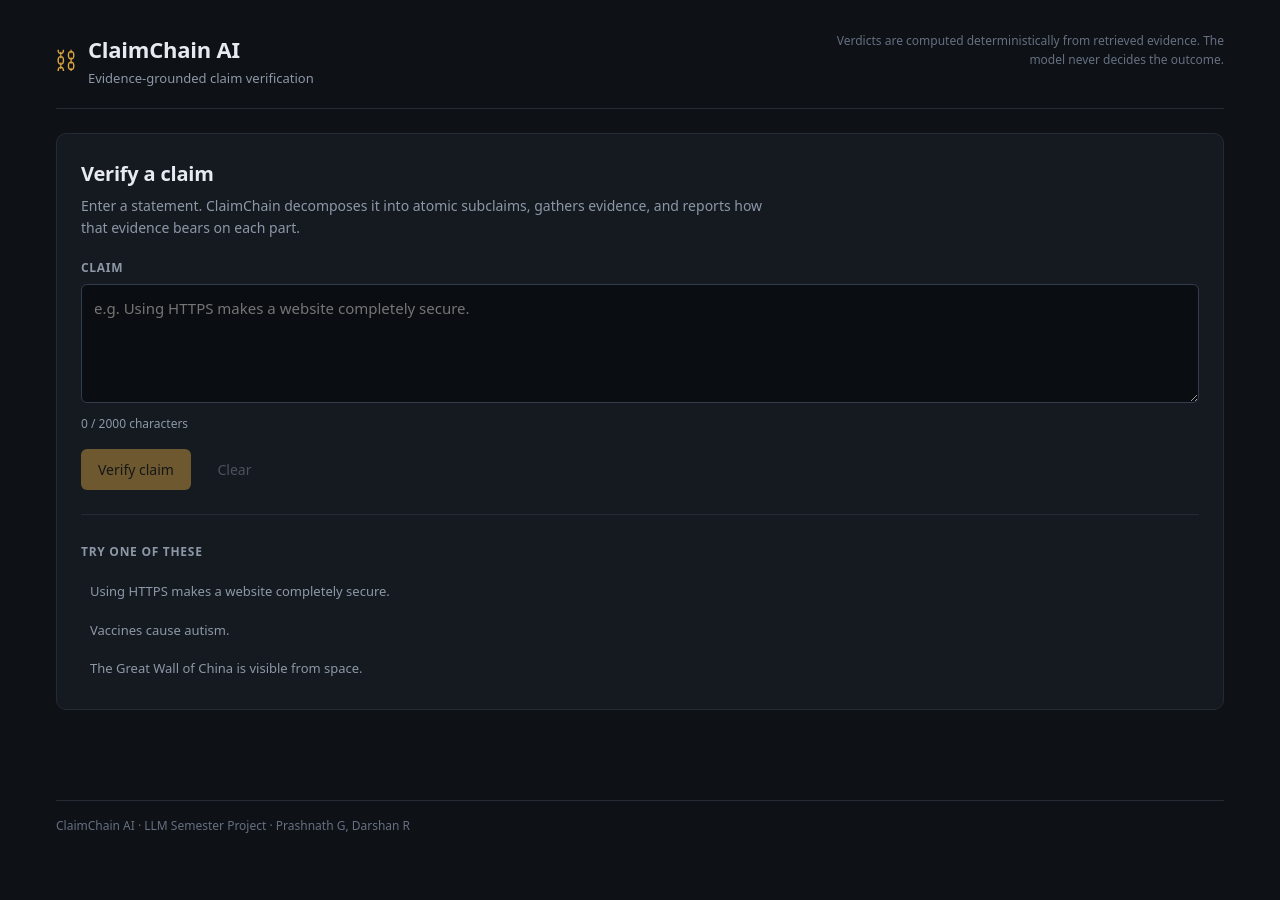
Test: App › shows a loading state while the pipeline runs
The image size is (1280, 900).
In the text box: (640, 343) [81,284,1199,403], type "Using HTTPS makes a website completely secure."
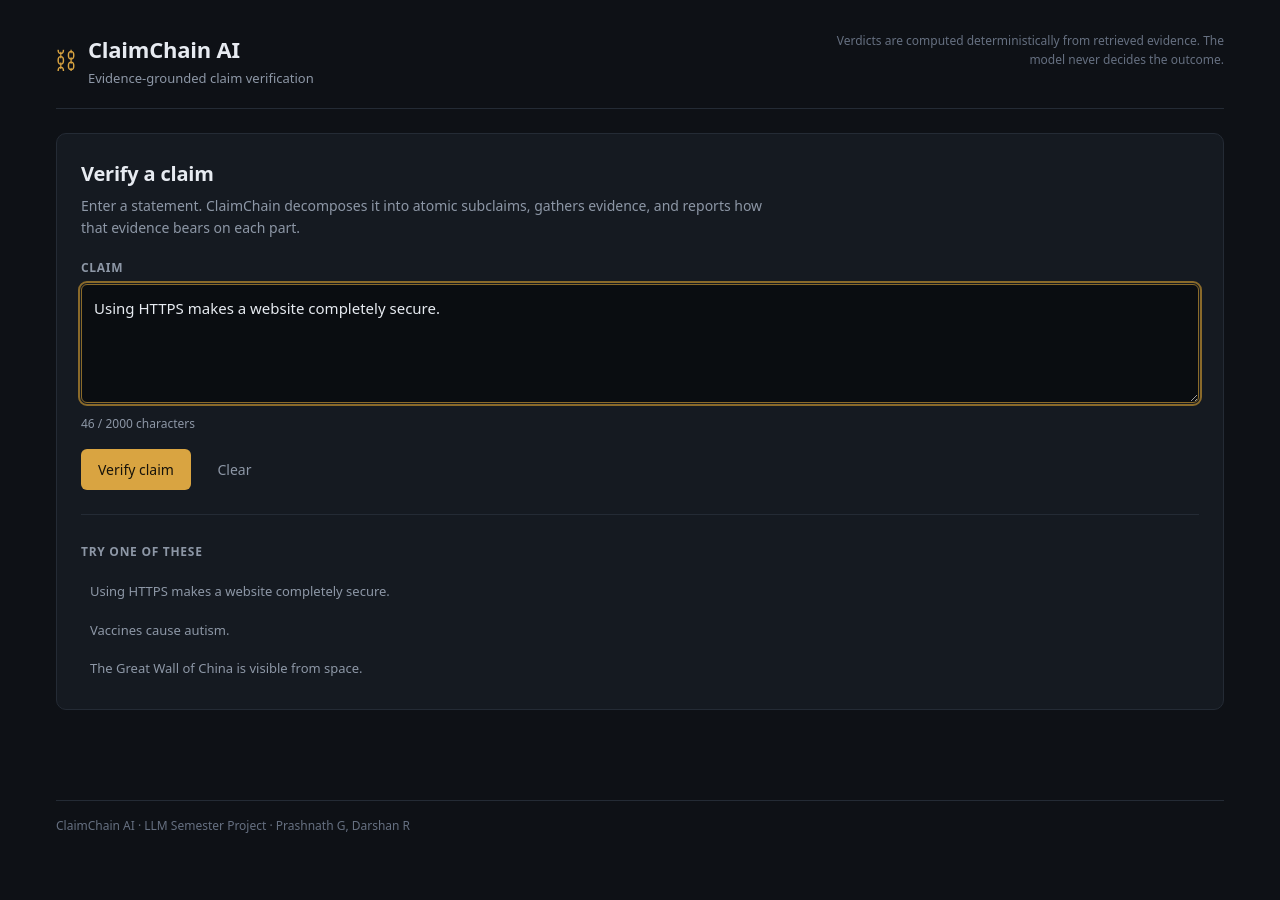
Click the button "Verify claim": (136, 470) [81,449,191,490]
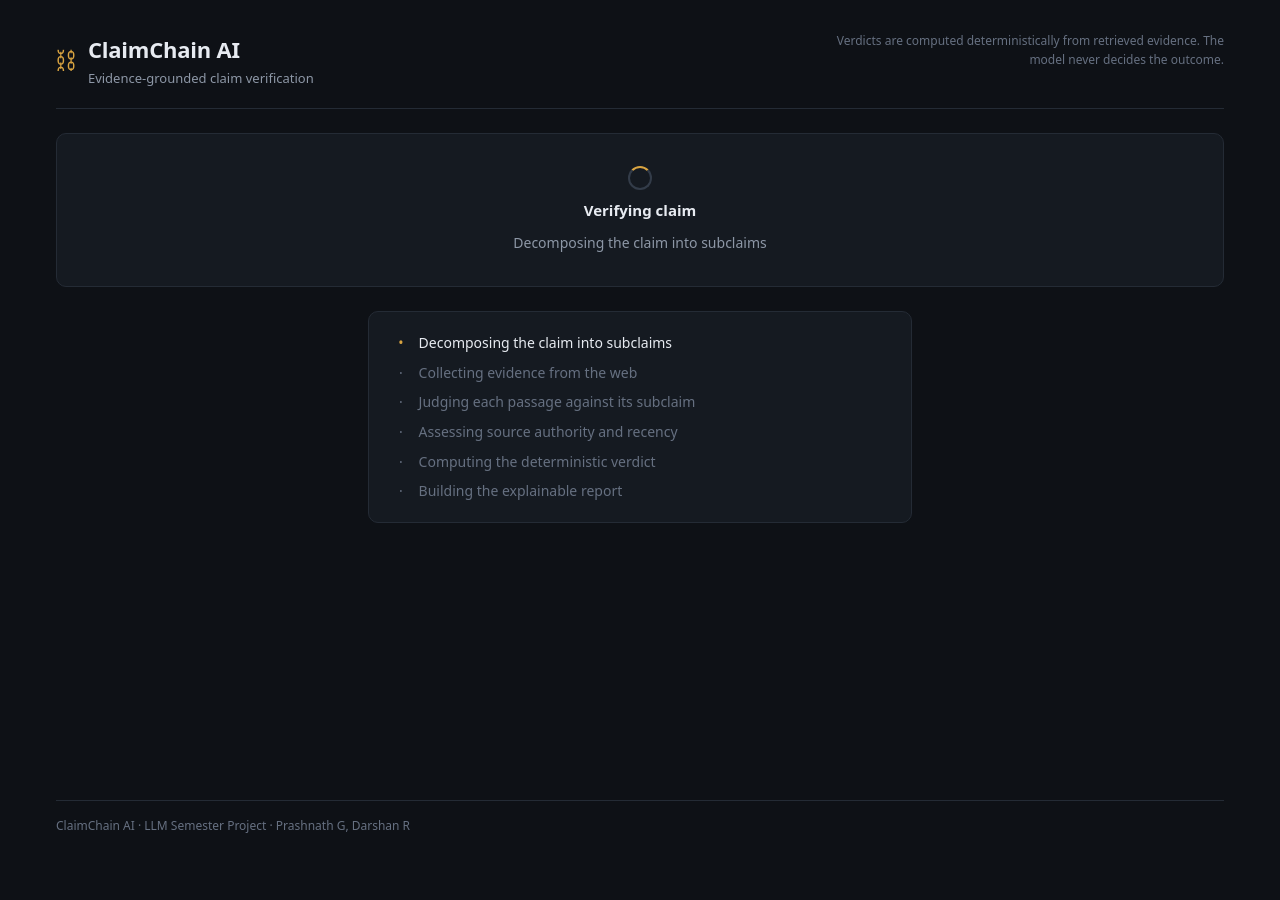
Check: the message "Verifying claim Decomposing the claim into subclaims" is shown, box [56,133,1224,287]
Check: the text "Verifying claim" is shown, box [584,199,696,223]
Check: the text "Decomposing the claim into subclaims" is shown, box [513,232,767,254]
